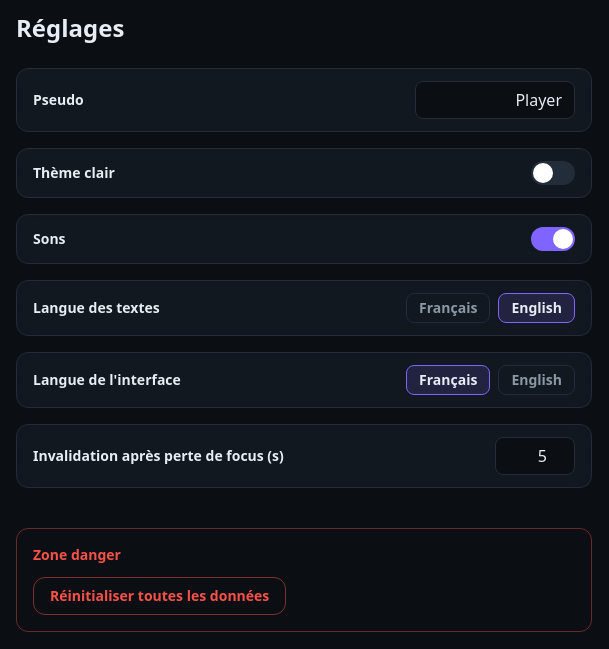
Scenario: SettingsPage › bascule la langue de l’interface et persiste
two rows have buttons named after their own value: target the interface-language one
Click the button "English" in the row of "Langue de l'interface": (537, 380) [498, 365, 575, 395]
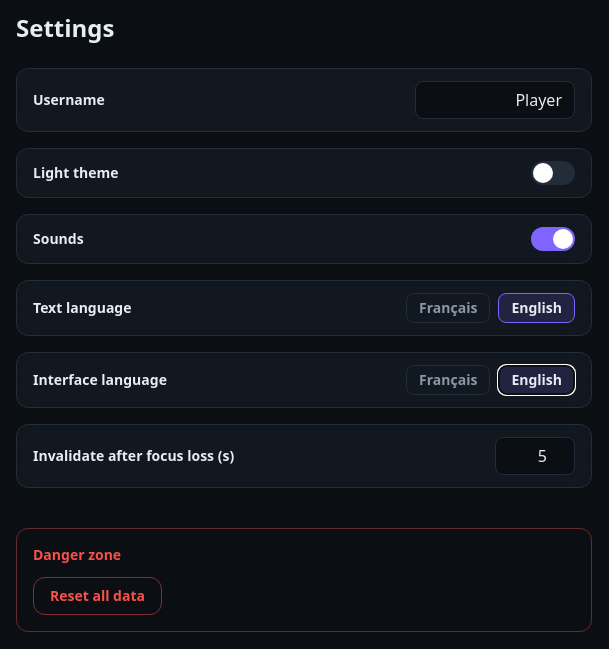
Now the heading "Settings" is shown, box [16, 11, 114, 44]
